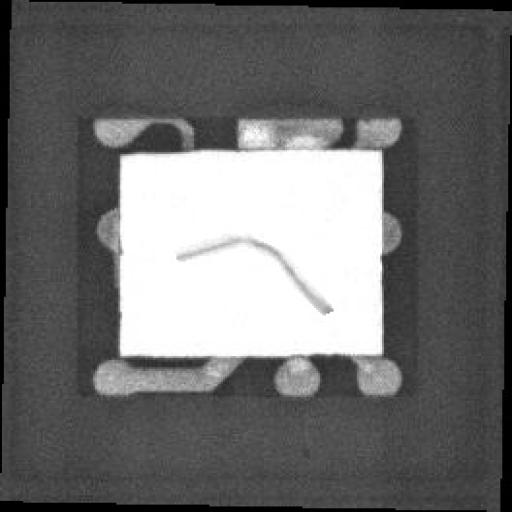DIE_INK: (165, 242, 315, 326)
